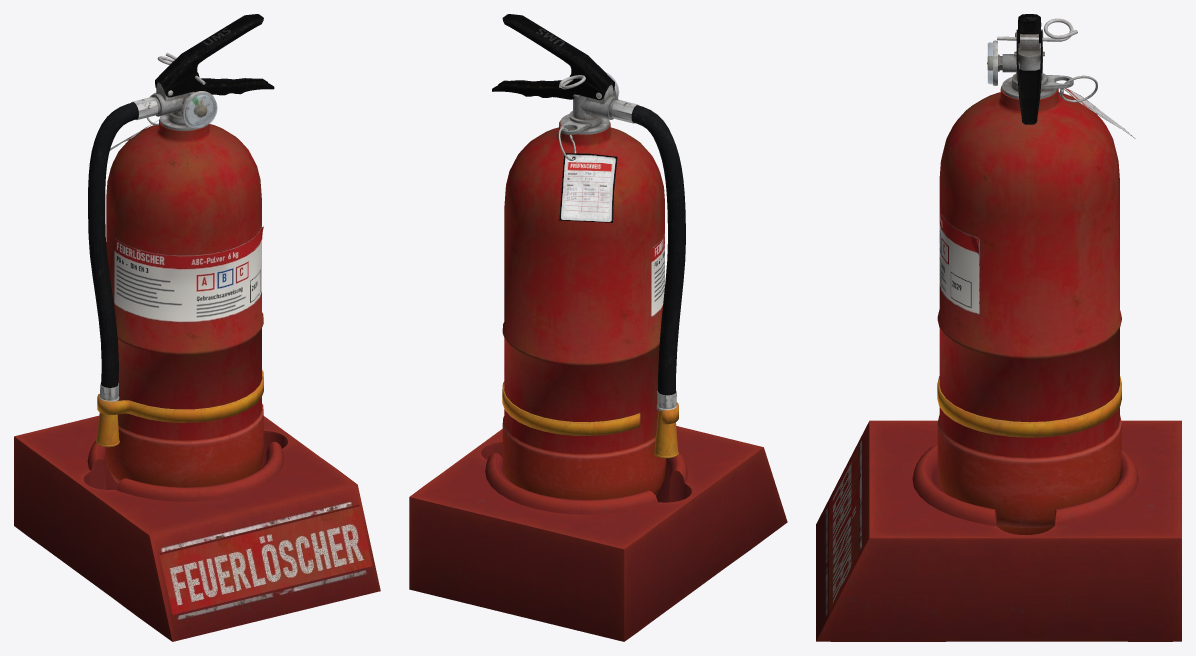
File: fire_extinguisher_de.gltf
3 renders of one model, left to right at view 1: azimuth 30°, elevation 25°; view 2: azimuth 150°, elevation 25°; view 3: azimuth 270°, elevation 25°, orthographic. The views are drawn at different scales.
Parts seen in each view (by area): view 1: fire_extinguisher_de; view 2: fire_extinguisher_de; view 3: fire_extinguisher_de.
Boxes of the visible parts, bbox=[...] form: fire_extinguisher_de: bbox=[14, 14, 380, 641]; fire_extinguisher_de: bbox=[409, 14, 787, 641]; fire_extinguisher_de: bbox=[816, 14, 1181, 641].
Size of the model in its own units: 0.28 by 0.6593 by 0.3674.
Materials: 3 (3 with a texture image).
